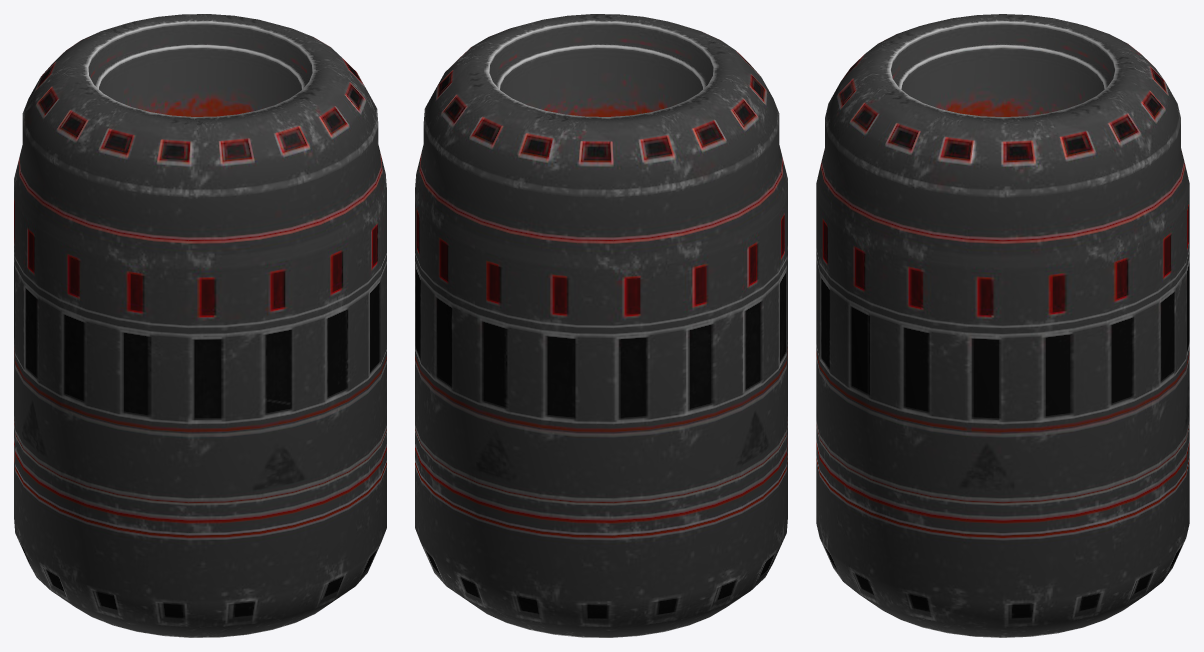
File: red.fbx
3 views of the same model, side by side, from view 1: azimuth 30°, elevation 25°; view 2: azimuth 150°, elevation 25°; view 3: azimuth 270°, elevation 25° (orthographic).
Parts seen in each view (by area): view 1: SM_ContainerS_JFG_1_Red; view 2: SM_ContainerS_JFG_1_Red; view 3: SM_ContainerS_JFG_1_Red.
Part boxes in pixels (<box>): SM_ContainerS_JFG_1_Red: <box>14,14,386,637</box>; SM_ContainerS_JFG_1_Red: <box>415,14,787,637</box>; SM_ContainerS_JFG_1_Red: <box>816,14,1189,637</box>.
Size of the model in its own units: 96.09 by 144 by 96.09.
